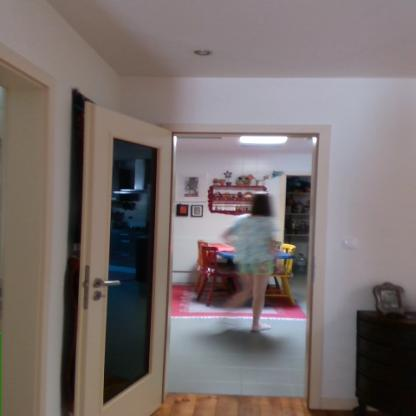open: (64, 90, 344, 416)
